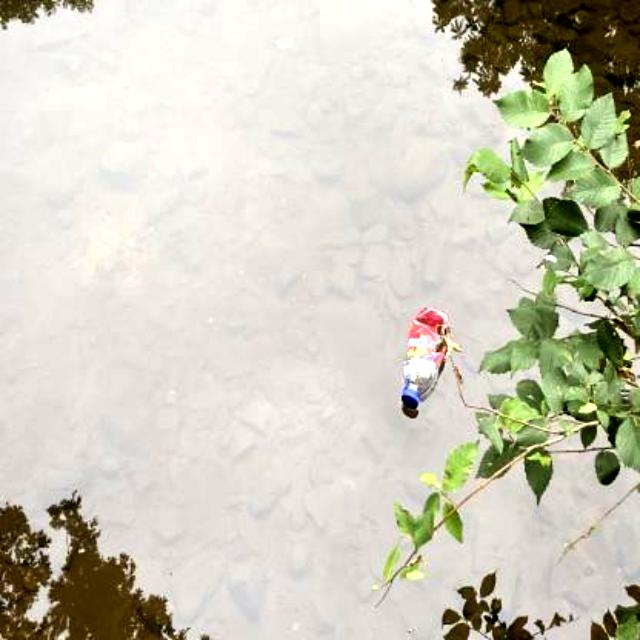Plastic: (394, 296, 456, 418)
